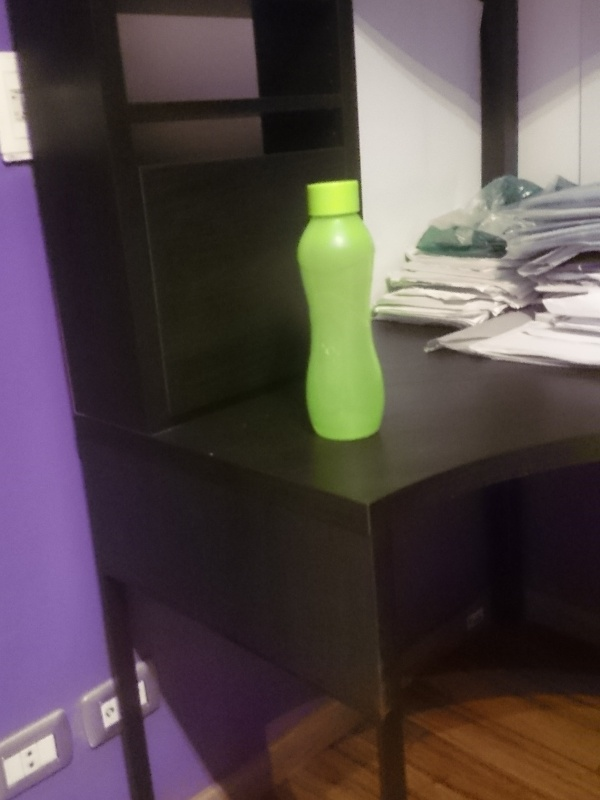my bottle: (297, 181, 387, 440)
